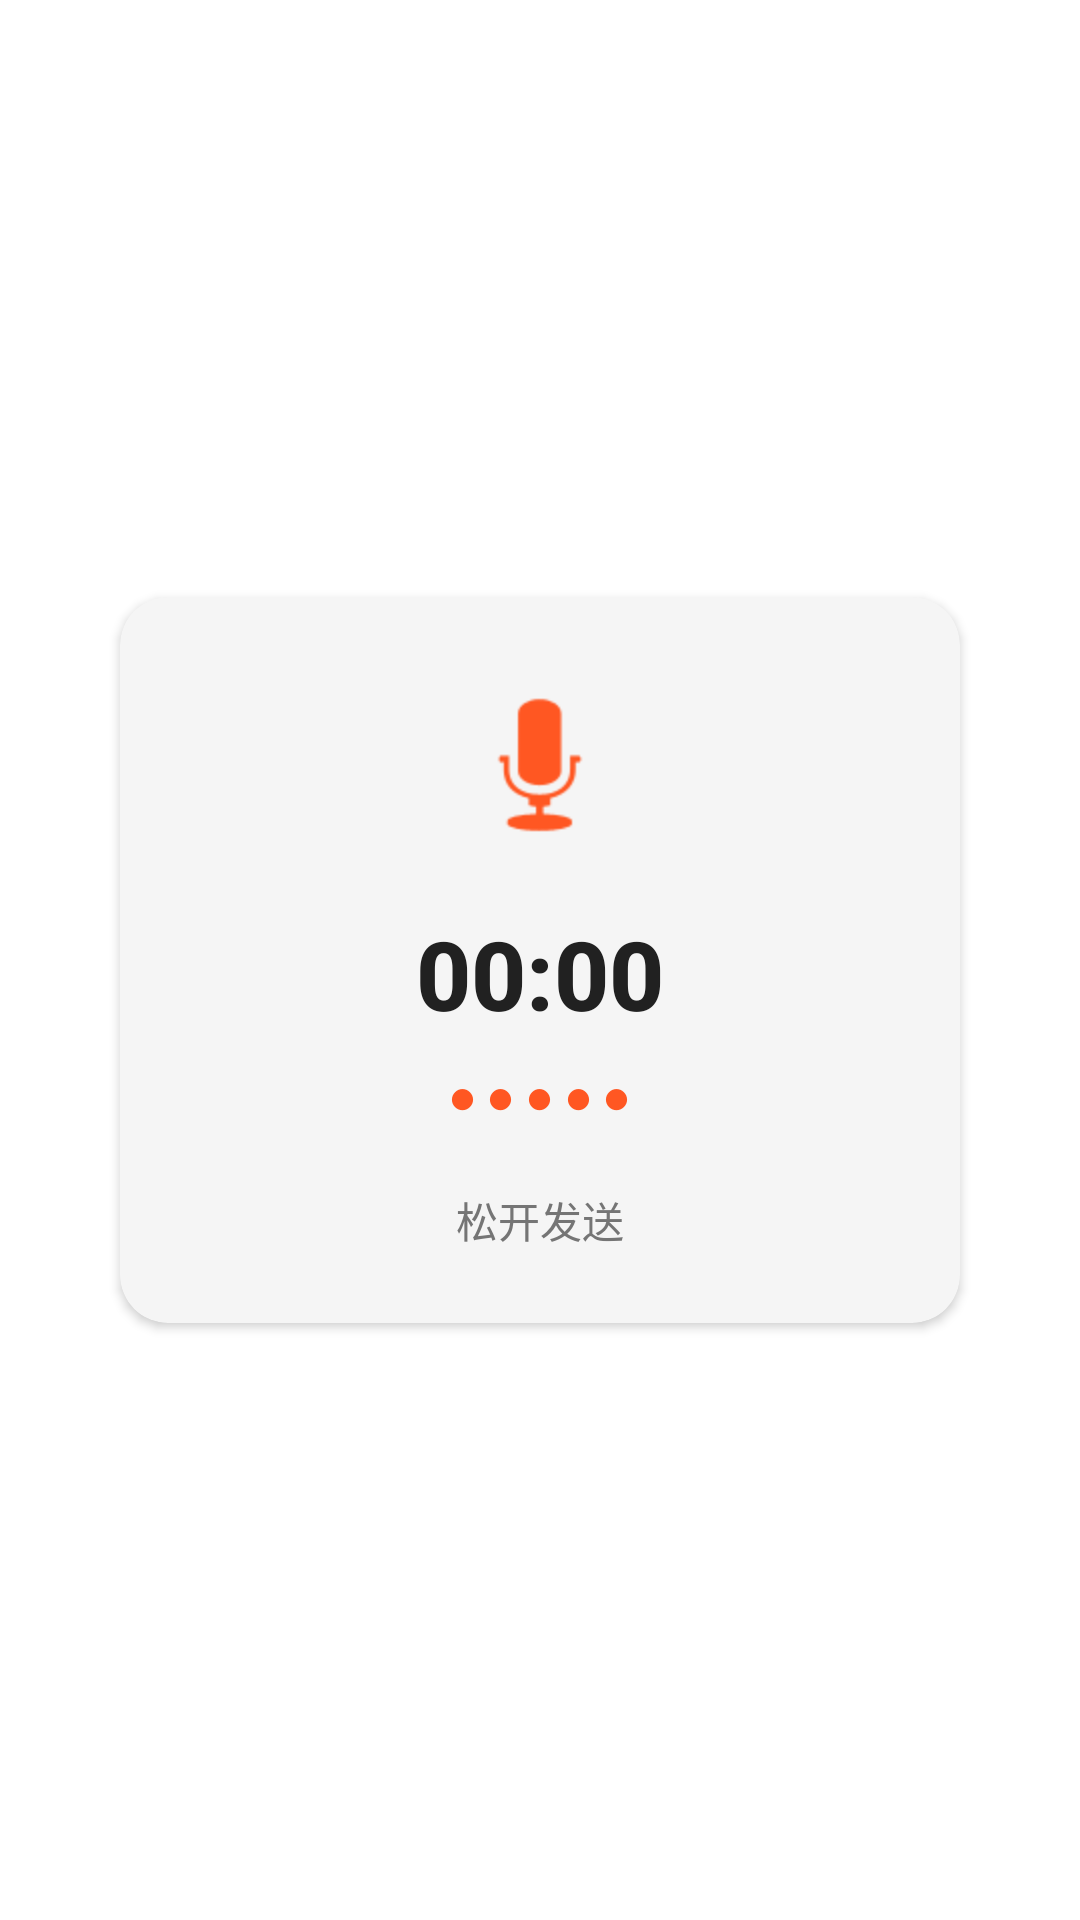

Screen size 1080 x 1920. Icon name, then its center in pixels as point (x, y):
正在录音: point (540, 765)
